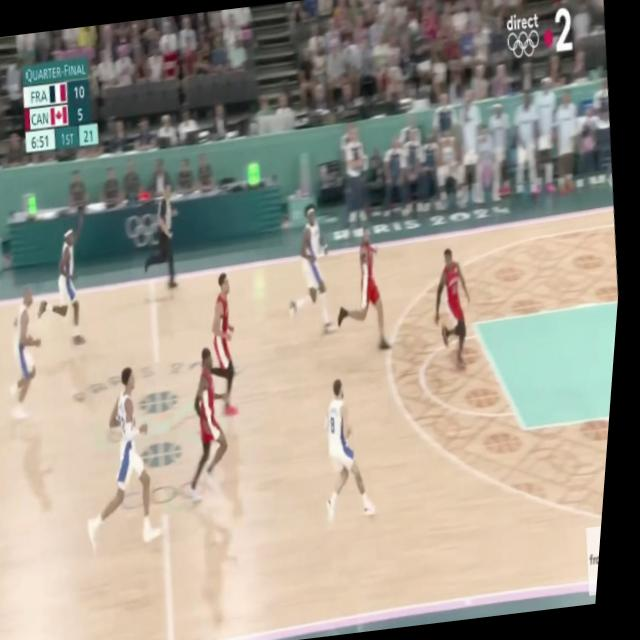ball_handler: (317, 374, 393, 529)
